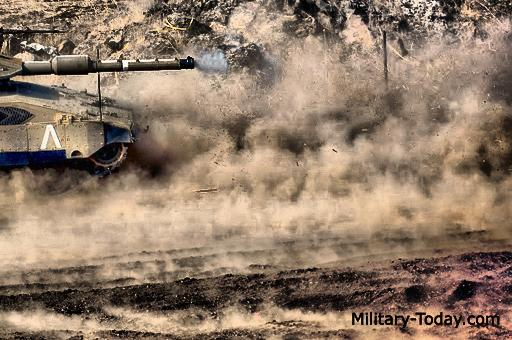tanks: (1, 42, 195, 179), (1, 30, 14, 42)
